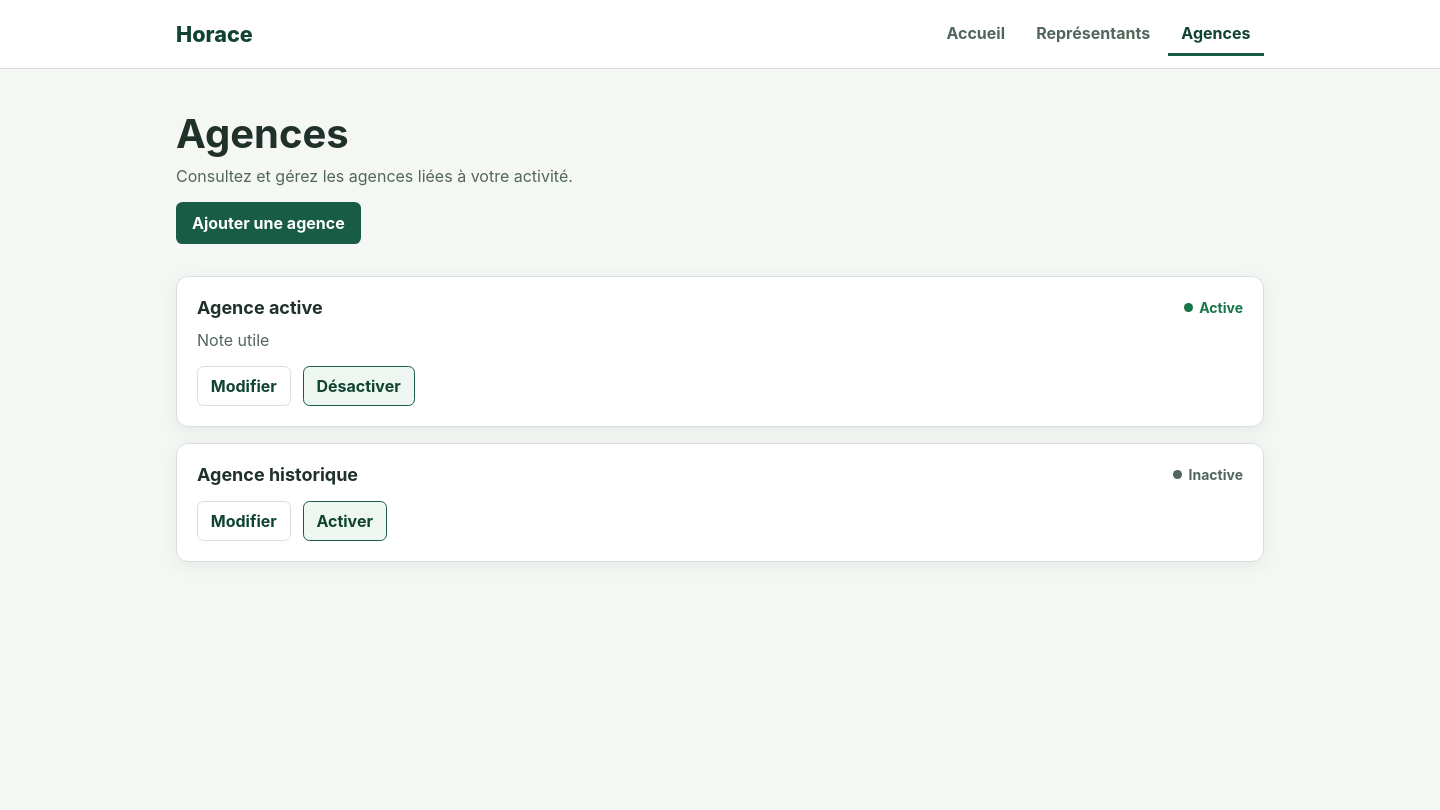
Test: page agences › crée une agence et actualise la liste
The image size is (1440, 810).
Expected: the heading "Agence active" is shown, [197, 297, 323, 318]
Click the button "Ajouter une agence" at (268, 223), box [176, 202, 361, 244]
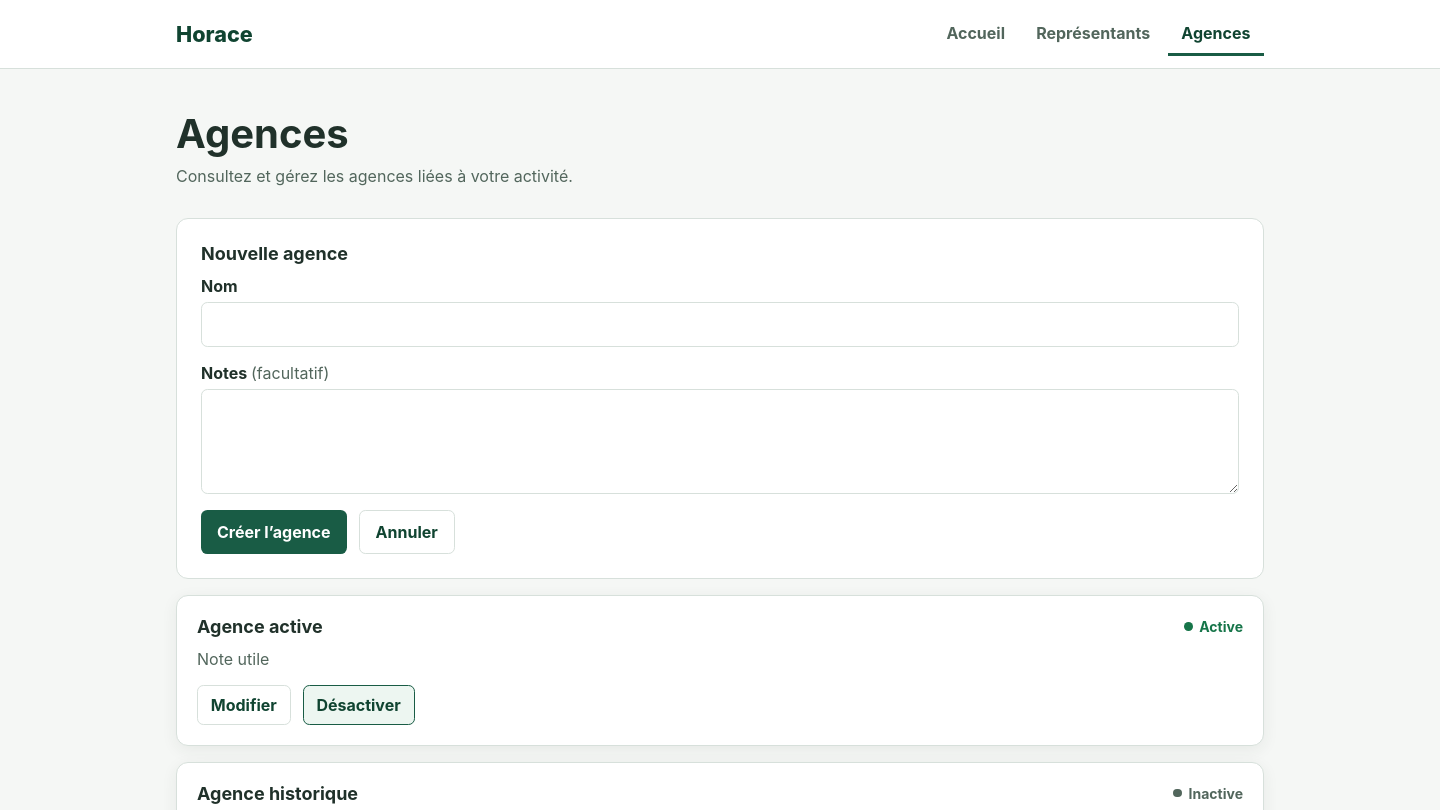
Type "Nouvelle agence" into the field labelled "Nom" at (720, 325), box [201, 302, 1239, 347]
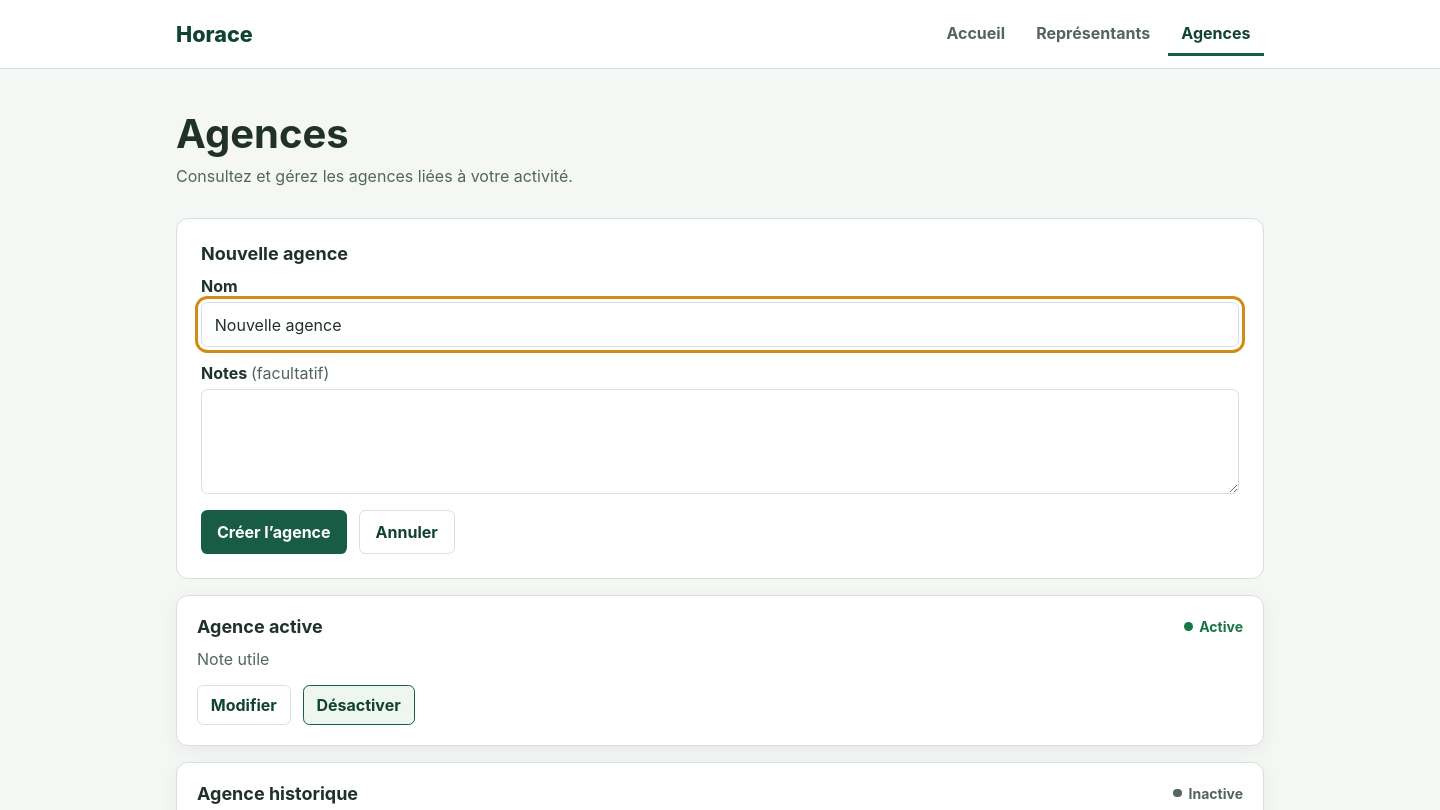
Type "Notes de création" into the text box labelled "Notes (facultatif)" at (720, 441), box [201, 389, 1239, 494]
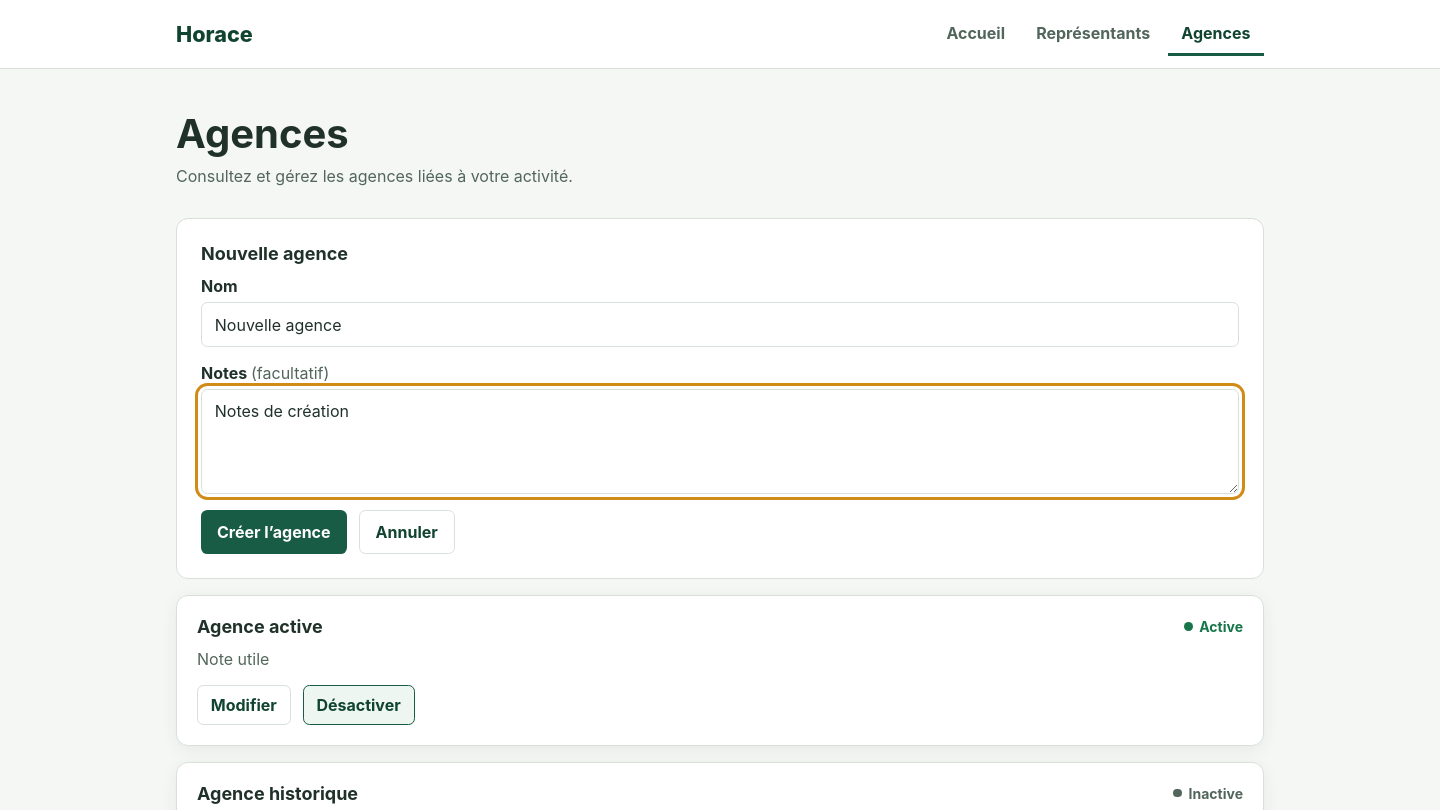
Click the button "Créer l’agence" at (274, 532), box [201, 510, 347, 554]
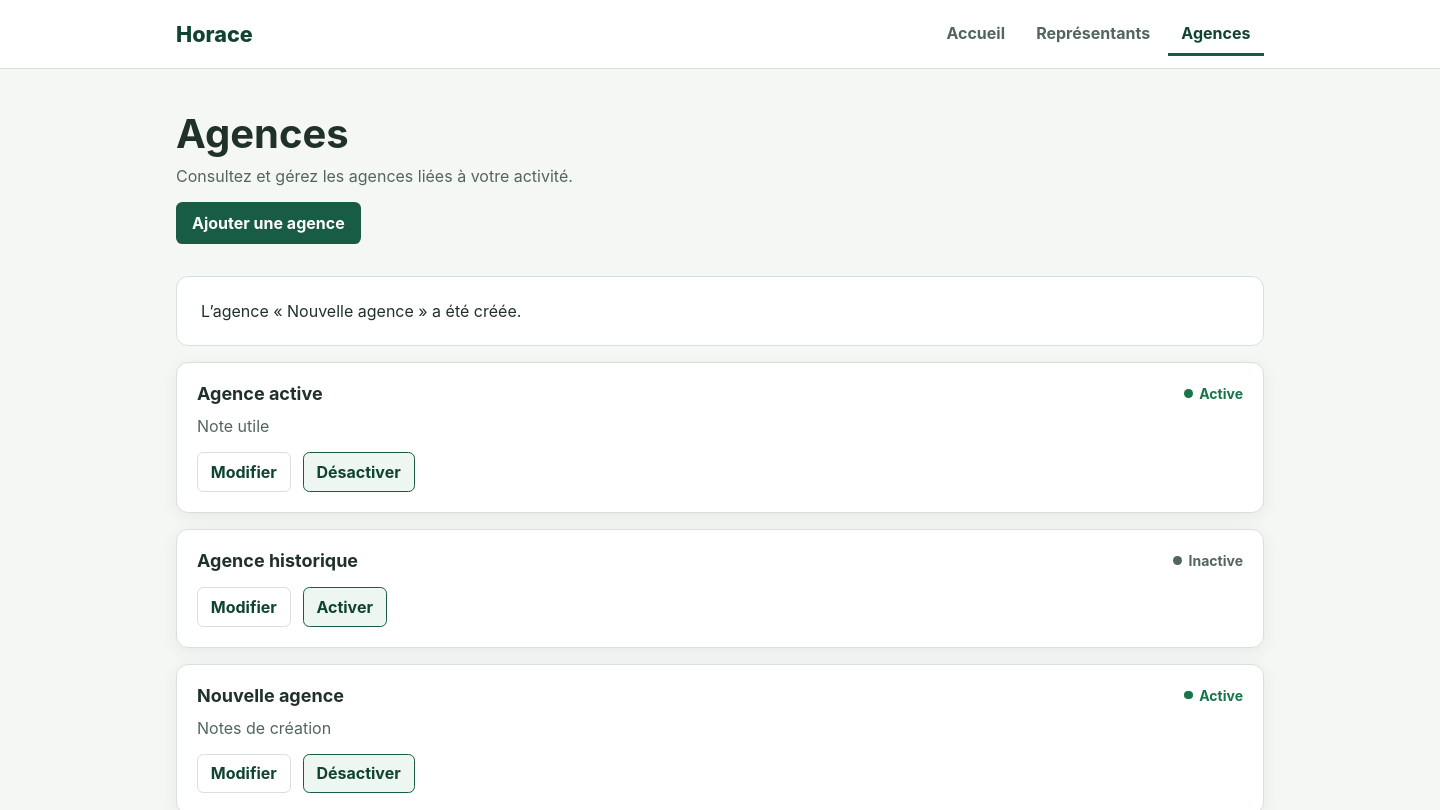
Result: the text "L’agence « Nouvelle agence » a été créée." is shown at [201, 301, 521, 321]
Result: the heading "Nouvelle agence" is shown at [197, 685, 344, 706]
